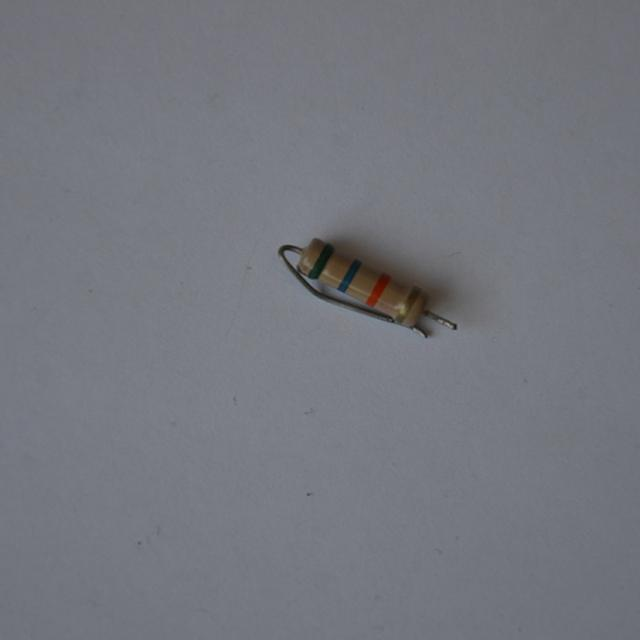blue: (336, 260, 360, 292)
gold: (398, 286, 421, 321)
green: (306, 242, 332, 279)
orange: (366, 275, 389, 306)
resistor: (284, 223, 447, 339)
